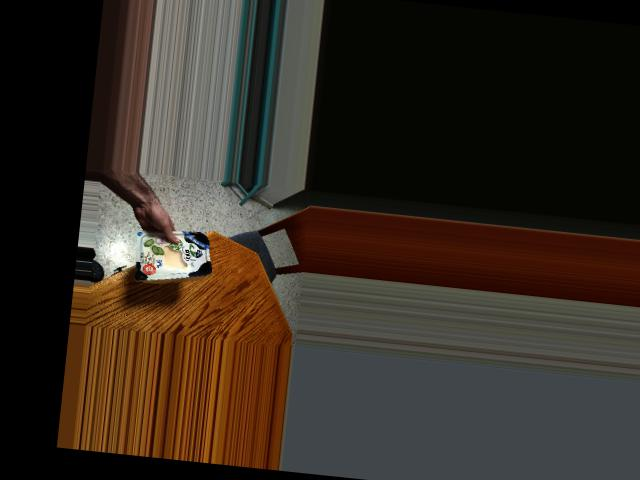cheese: (143, 217, 211, 285)
